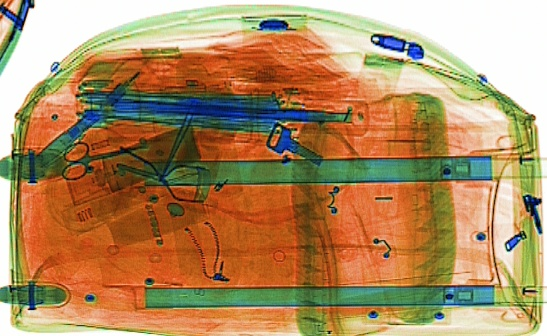scissors: (61, 139, 148, 182)
